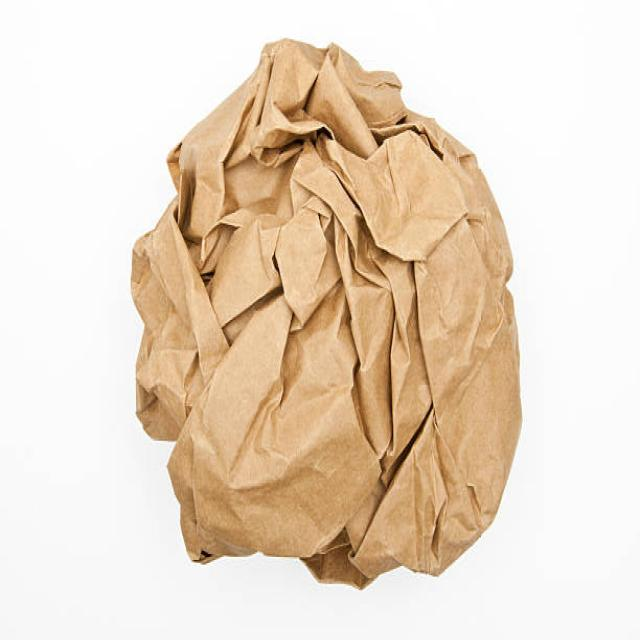electronic: (130, 36, 523, 590)
